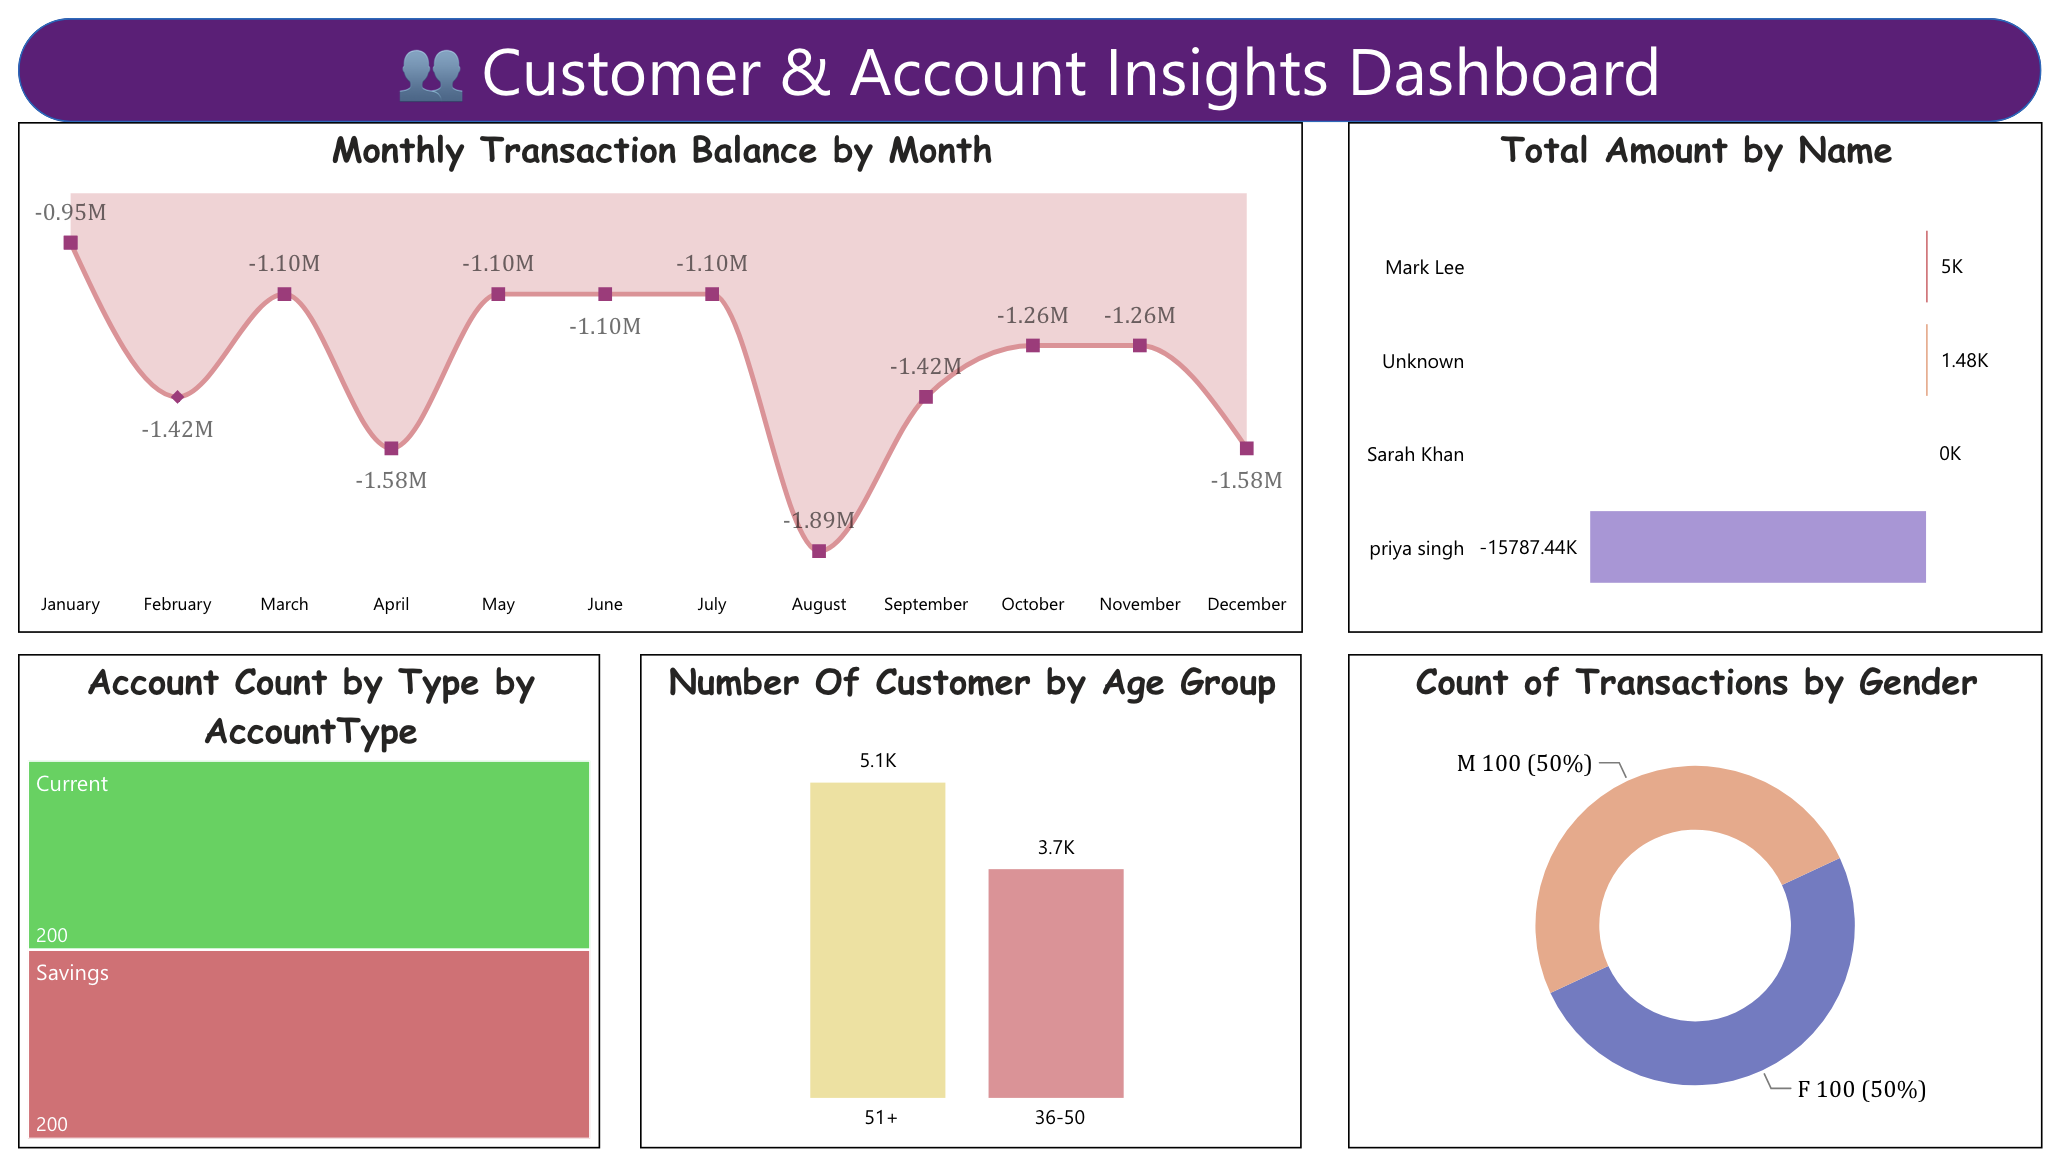

What the dashboard file says about the page in this screenshot:
{"tool":"powerbi","page":{"name":"Page 2","canvas":[1280,720],"ordinal":1},"visuals":[{"type":"donutChart","fields":{"Y":["Measure.Count of Transactions"],"Category":["CombinedBankingDataset.Gender"]},"box":[833.3,388.3,423.3,301.7],"z":0},{"type":"columnChart","title":"Number Of Customer by Age Group","fields":{"Category":["CombinedBankingDataset.Customer Age Group"],"Y":["Sum(CombinedBankingDataset.Customer Age)"]},"box":[401.7,388.3,403.3,301.7],"z":1000},{"type":"treemap","fields":{"Group":["CombinedBankingDataset.AccountType"],"Values":["Measure.Account Count by Type"]},"box":[21.7,388.3,355,301.7],"z":2000},{"type":"barChart","title":"Total Amount by Name ","fields":{"Category":["CombinedBankingDataset.Name"],"Y":["Sum(CombinedBankingDataset.Balance)"]},"box":[833.3,63.3,423.3,311.7],"z":3000},{"type":"areaChart","fields":{"Category":["CombinedBankingDataset.TransactionDate.Variation.Date Hierarchy.Month"],"Y":["Measure.Monthly Transaction Balance"]},"box":[21.7,63.3,783.3,311.7],"z":4000},{"type":"shape","box":[22,0,1233.8,63.6],"z":4001}]}

Visuals, with their boxes in screenshot pixels (x1, y1, x2, y2), scaled from the page's 1280x720 canvas onto the 2060x1160 screenshot:
donutChart - Measure.Count of Transactions x CombinedBankingDataset.Gender: bbox=(1341, 626, 2022, 1112)
"Number Of Customer by Age Group" columnChart: bbox=(646, 626, 1296, 1112)
treemap - CombinedBankingDataset.AccountType x Measure.Account Count by Type: bbox=(35, 626, 606, 1112)
"Total Amount by Name " barChart: bbox=(1341, 102, 2022, 604)
areaChart - CombinedBankingDataset.TransactionDate.Variation.Date Hierarchy.Month x Measure.Monthly Transaction Balance: bbox=(35, 102, 1296, 604)
shape: bbox=(35, 0, 2021, 102)
